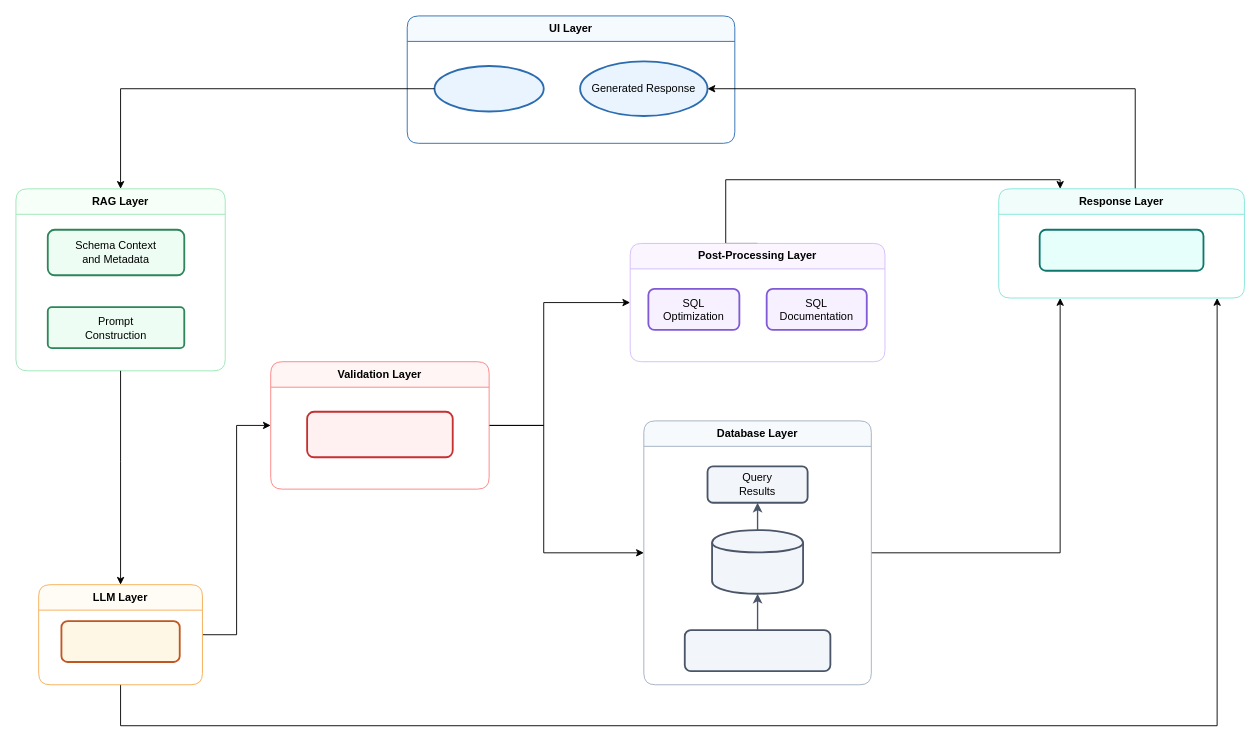
Some shapes in this 1260 by 749 pixel diagram are drawn without their labels. The shapes that lost their labels are listed below. From the top down, each one's centre as x and y in pixels, then its label:
At point 488,88: "User Question".
At point 1121,249: "Natural Language Response Generation".
At point 379,434: "SQL Validation & Safety Checks".
At point 757,561: "Teradata DB".
At point 120,641: "SQL Generation".
At point 757,650: "Teradata Query Execution".
